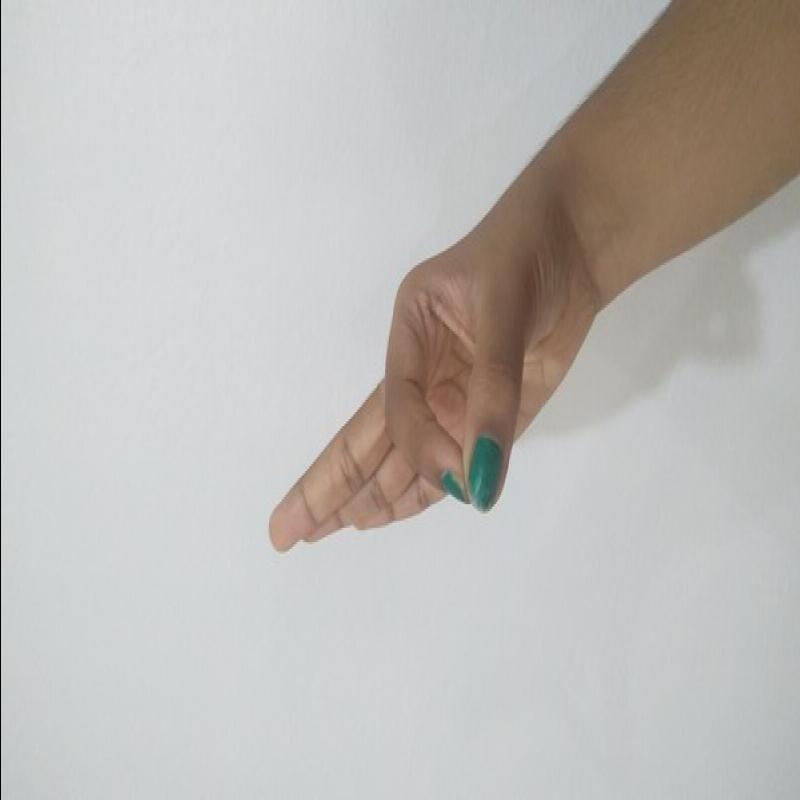Mudraakhyam: (245, 182, 592, 583)
